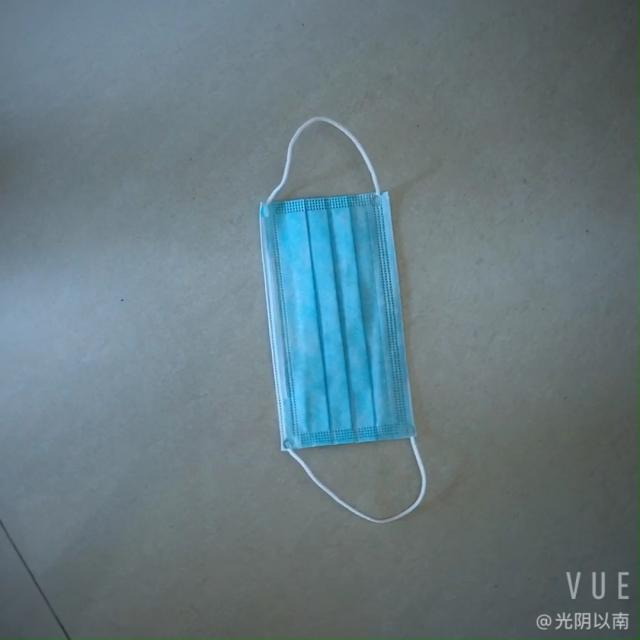non-organic waste: (242, 159, 422, 485)
